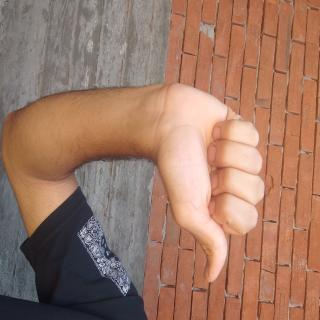DAD: (54, 68, 216, 238)
